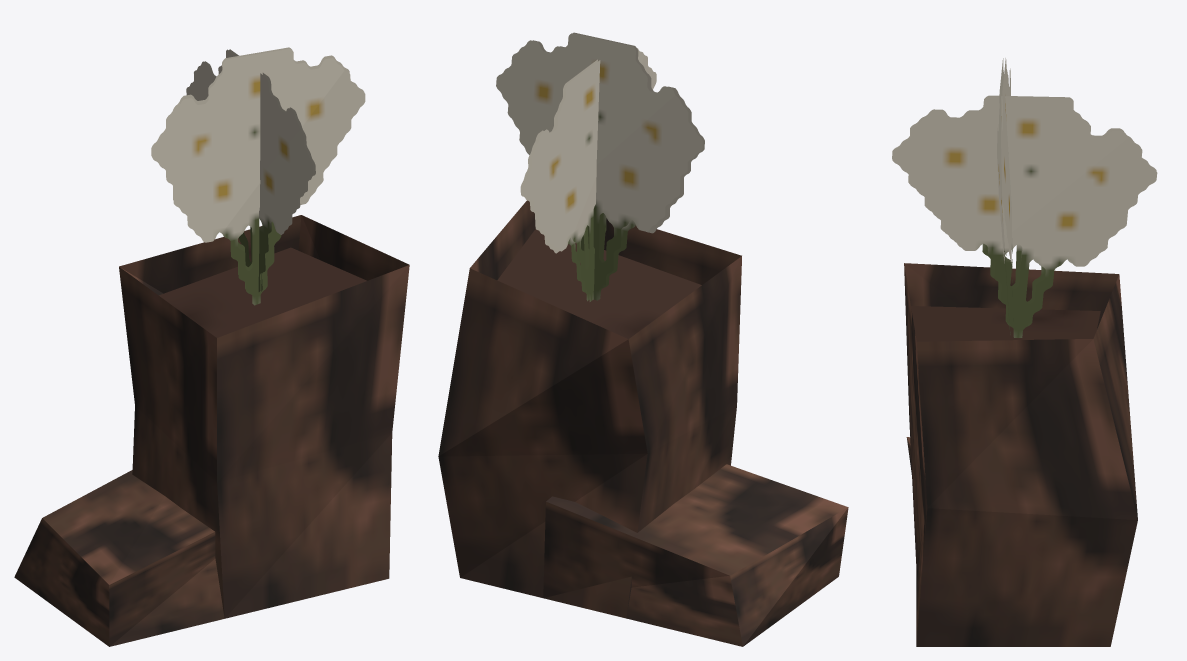
The model's file is SM_BootPlanter.fbx.
3 views of the same model, side by side, from view 1: azimuth 30°, elevation 25°; view 2: azimuth 150°, elevation 25°; view 3: azimuth 270°, elevation 25° (orthographic). The views are drawn at different scales.
Parts seen in each view (by area): view 1: BootPlanter_Visual, BootPlanter_Flowers; view 2: BootPlanter_Visual, BootPlanter_Flowers; view 3: BootPlanter_Visual, BootPlanter_Flowers.
Boxes of the visible parts, box(x1,y1,x2,y2) form: BootPlanter_Visual: box(14, 215, 409, 646); BootPlanter_Flowers: box(151, 47, 365, 305); BootPlanter_Visual: box(438, 200, 848, 646); BootPlanter_Flowers: box(496, 32, 704, 301); BootPlanter_Visual: box(904, 263, 1137, 646); BootPlanter_Flowers: box(892, 58, 1157, 337).
Size of the model in its own units: 0.193 by 0.3027 by 0.1519.
